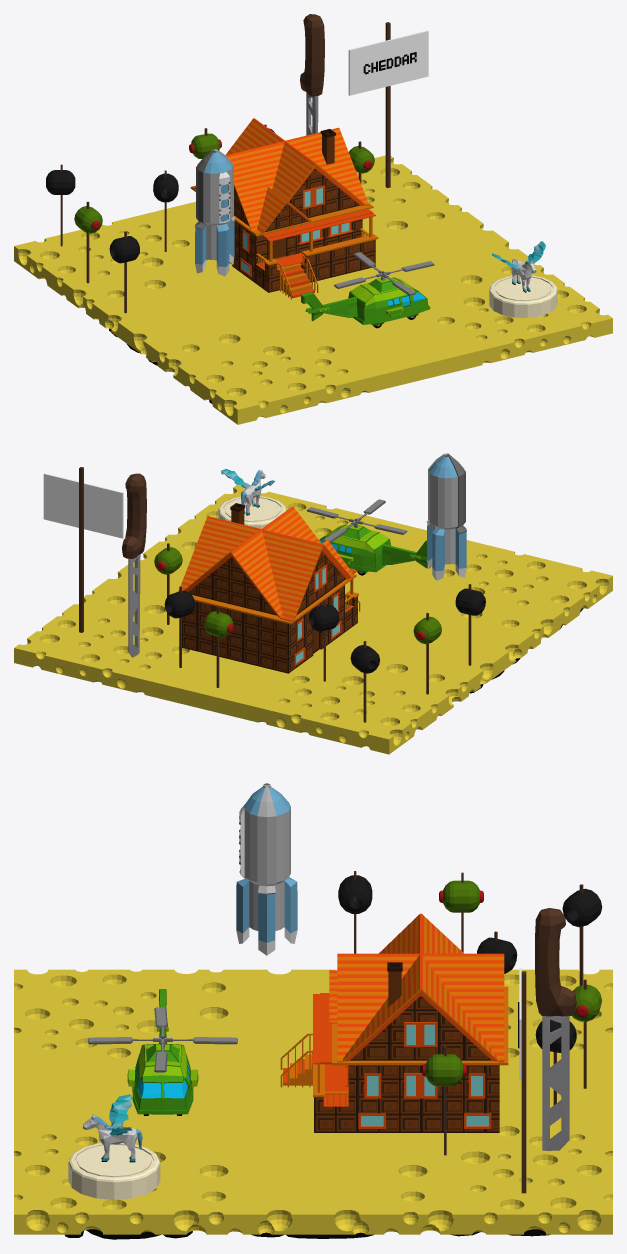
3 renders of one model, top to bottom at view 1: azimuth 30°, elevation 25°; view 2: azimuth 150°, elevation 25°; view 3: azimuth 270°, elevation 25°, orthographic. The views are drawn at different scales.
Visible parts, largest first — view 1: Cube.022, Cube, Cube.023, OBJRANDOM_ROCKETSHIP, VEHICLES_HELICOPTER, Cylinder.016, Cube.024, ANIMAL_PEGASO, Sphere.017, Sphere.016, Sphere.018, Sphere.020 (+2 smaller); view 2: Cube.022, Cube, Cube.023, OBJRANDOM_ROCKETSHIP, VEHICLES_HELICOPTER, Cube.024, Cylinder.016, Sphere.017, Sphere.022, Sphere.016, Sphere.021, Sphere.020 (+3 smaller); view 3: Cube.022, Cube, OBJRANDOM_ROCKETSHIP, Cube.024, VEHICLES_HELICOPTER, Cylinder.016, ANIMAL_PEGASO, Cube.023, Sphere.016, Sphere.019, Curve.014, Sphere.018 (+4 smaller).
Part boxes in pixels (box(x1,y1,x2,y2)): Cube.022: box(14, 155, 612, 424); Cube: box(190, 118, 378, 299); Cube.023: box(348, 22, 428, 188); OBJRANDOM_ROCKETSHIP: box(195, 149, 234, 276); VEHICLES_HELICOPTER: box(301, 252, 434, 328); Cylinder.016: box(489, 275, 557, 317); Cube.024: box(300, 14, 324, 135); ANIMAL_PEGASO: box(492, 241, 545, 292); Sphere.017: box(109, 231, 139, 313); Sphere.016: box(46, 164, 75, 246); Sphere.018: box(74, 201, 102, 283); Sphere.020: box(153, 170, 178, 251); Cube.022: box(14, 485, 612, 754); Cube: box(177, 503, 360, 673); Cube.023: box(43, 467, 123, 632); OBJRANDOM_ROCKETSHIP: box(426, 453, 466, 580); VEHICLES_HELICOPTER: box(306, 499, 427, 575); Cube.024: box(122, 473, 146, 657); Cylinder.016: box(218, 496, 286, 528); Sphere.017: box(455, 584, 485, 665); Sphere.022: box(203, 606, 233, 687); Sphere.016: box(350, 641, 379, 722); Sphere.021: box(164, 586, 195, 667); Sphere.020: box(309, 600, 339, 681); Cube.022: box(14, 969, 612, 1234); Cube: box(280, 913, 508, 1132); OBJRANDOM_ROCKETSHIP: box(236, 783, 297, 955); Cube.024: box(535, 908, 576, 1150); VEHICLES_HELICOPTER: box(88, 989, 237, 1115); Cylinder.016: box(68, 1143, 160, 1199); ANIMAL_PEGASO: box(83, 1094, 142, 1162); Cube.023: box(518, 968, 526, 1193); Sphere.016: box(562, 884, 602, 985); Sphere.019: box(422, 1046, 466, 1155); Curve.014: box(65, 1229, 550, 1239); Sphere.018: box(439, 872, 483, 952).
Size of the model in its own units: 3917 by 1980 by 4000.
37 materials, 4 textured.
